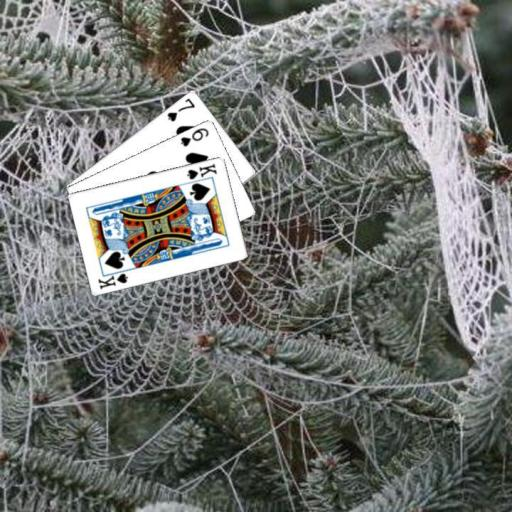6S: (178, 124, 210, 148)
7S: (165, 95, 197, 123)
KS: (95, 266, 131, 290), (184, 160, 219, 181)
